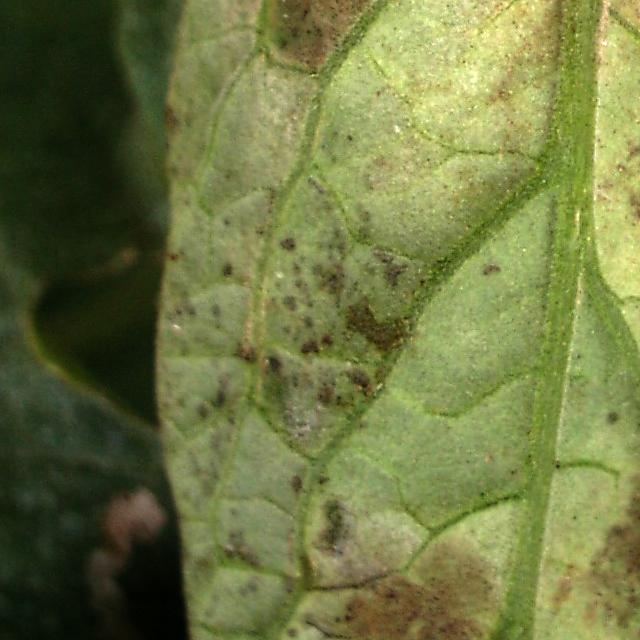Tomato mold leaf: (98, 0, 640, 640)
